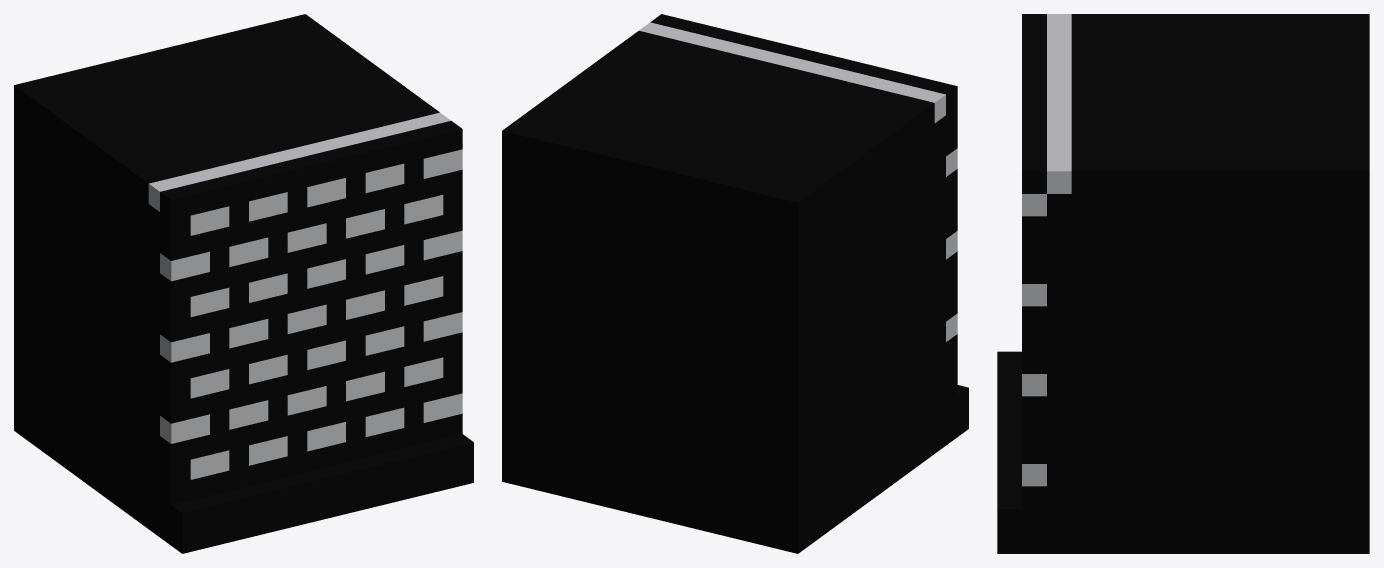
File: dungeon_d_a_outer_wall_segment_a.obj
The picture shows the model from 3 angles, left to right: view 1: azimuth 30°, elevation 25°; view 2: azimuth 150°, elevation 25°; view 3: azimuth 270°, elevation 25°; orthographic projection. The views are drawn at different scales.
Bounding box in the file's own units: 1.5 × 1.7 × 1.5.
1 material, 1 textured.
